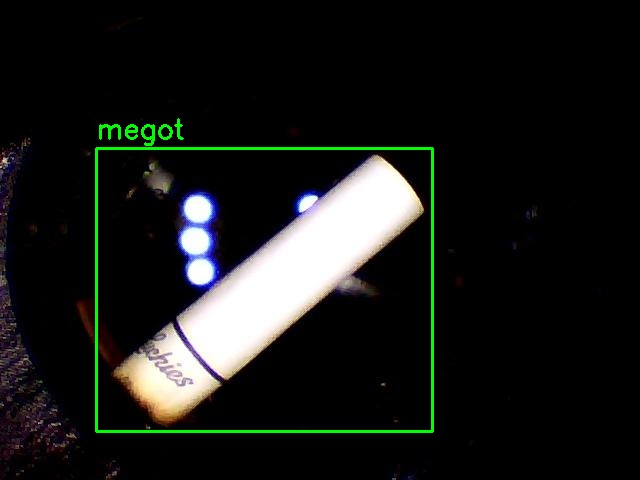megot: (96, 148, 432, 431)
